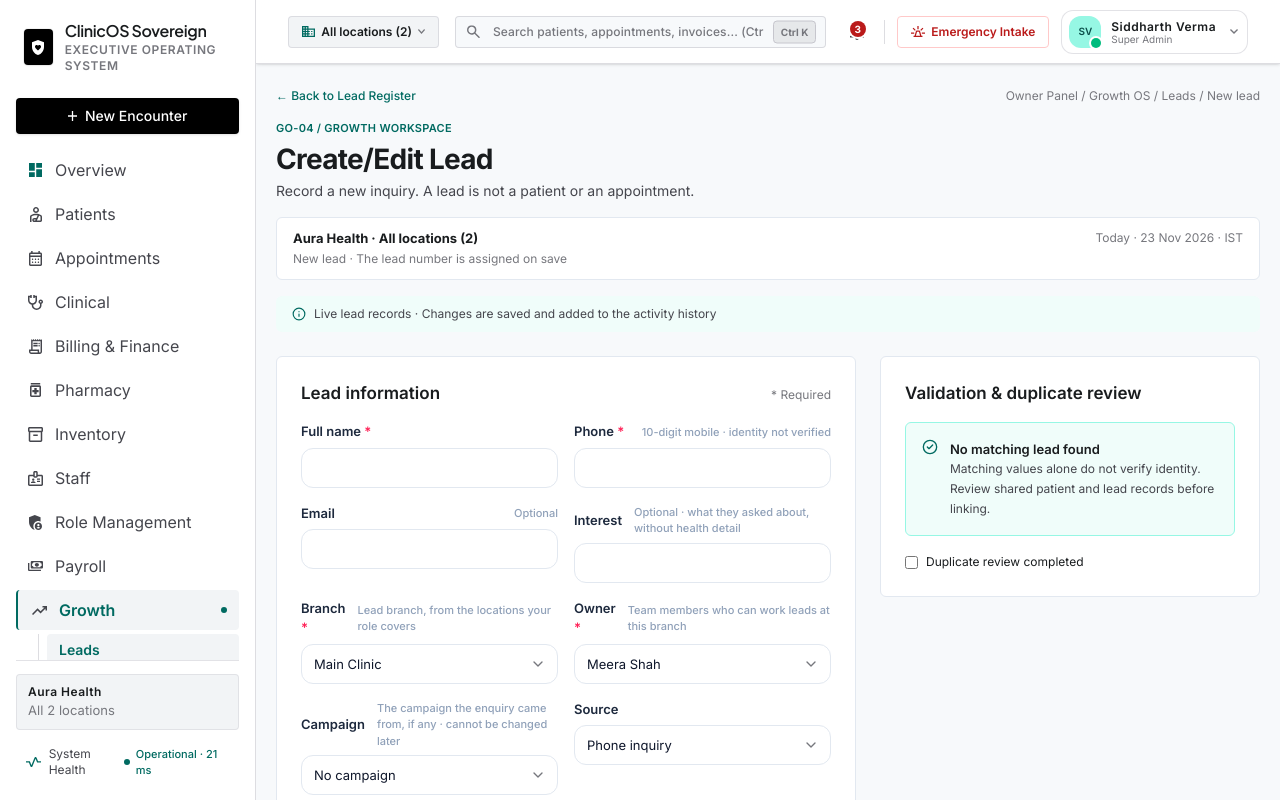
leads › blocks saving a lead with a duplicate mobile until the review is confirmed
Clear the field labelled "Full name *" at (430, 468), box top-left (301, 448), bottom-right (558, 488)
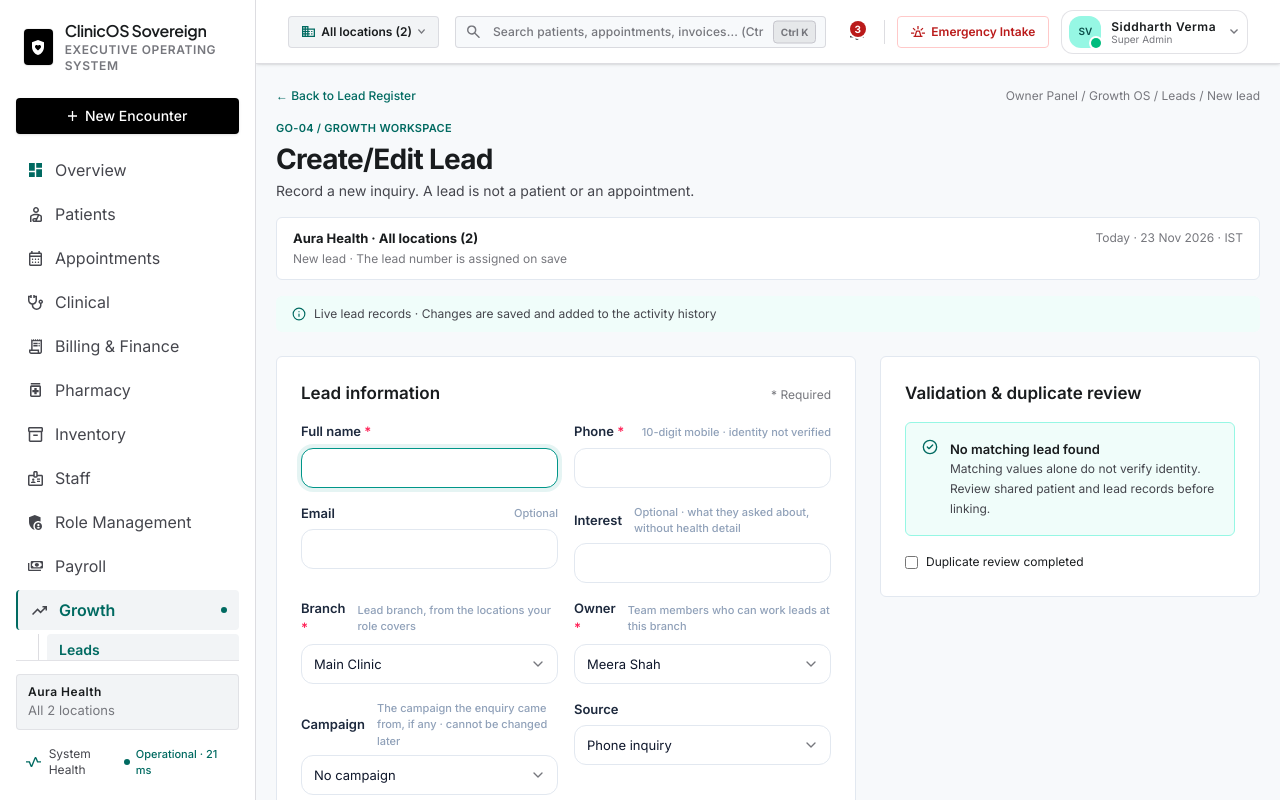
Type keys "Another Nisha"
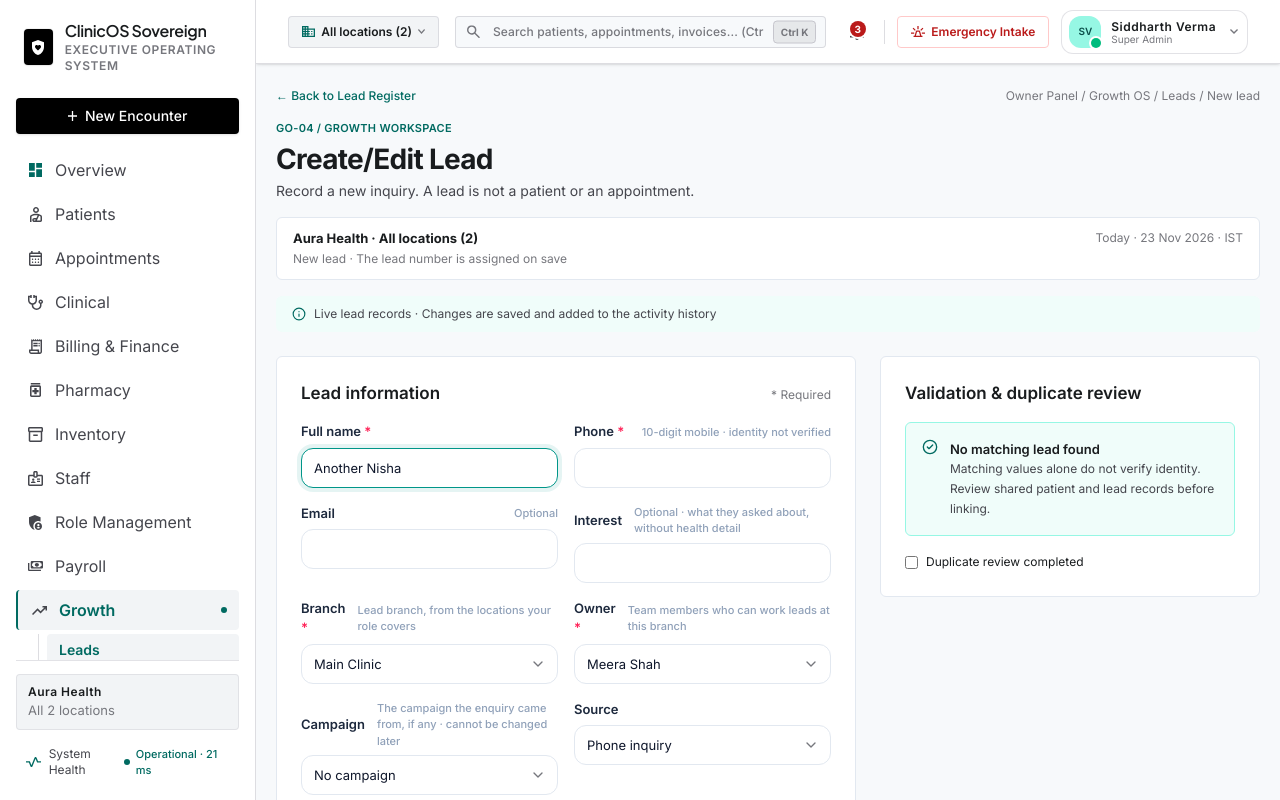
Clear the field labelled "Phone *" at (702, 468), box top-left (574, 448), bottom-right (831, 488)
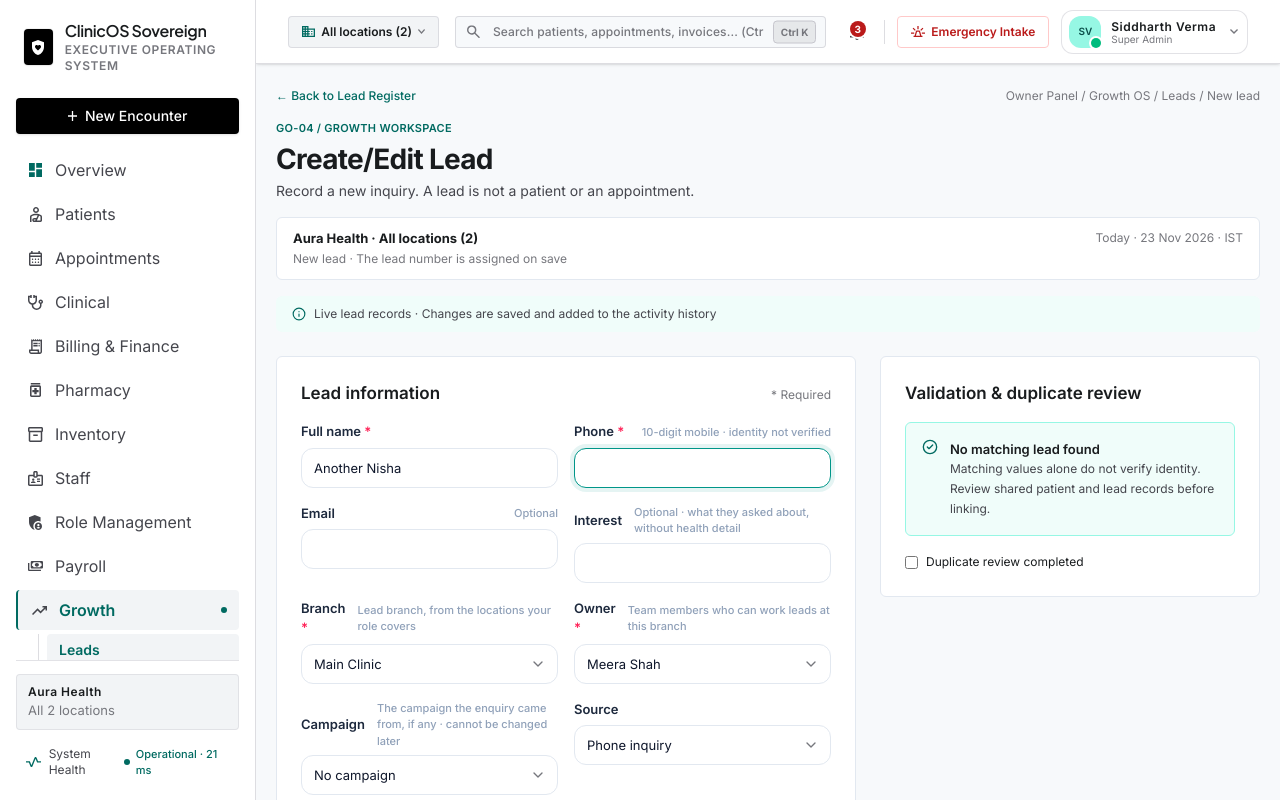
Type keys "98480 22110"
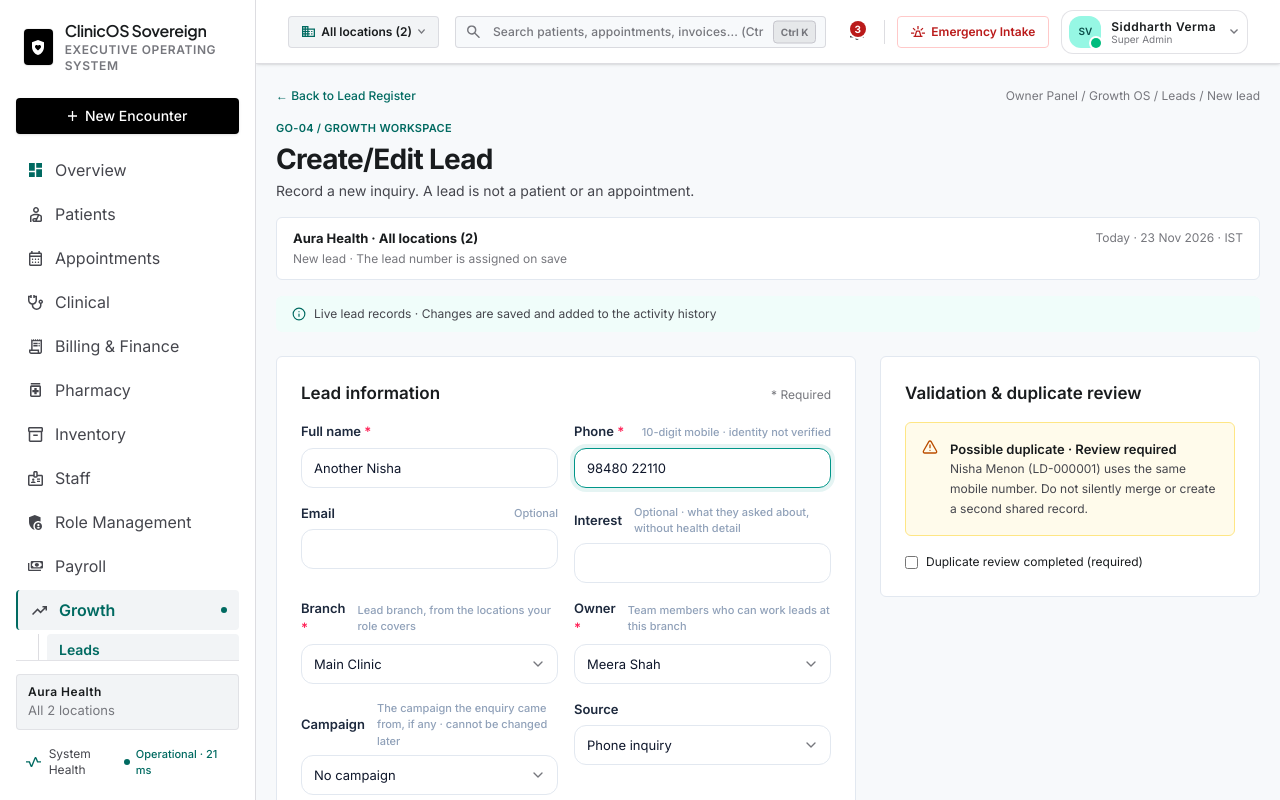
Check: the text "Possible duplicate · Review required" is shown, box top-left (950, 441), bottom-right (1177, 457)
Check: the text "Nisha Menon (LD-000001) uses the same mobile number" is shown, box top-left (950, 439), bottom-right (1218, 519)
Click the checkbox labelled "Duplicate review completed (required)" at (912, 563), box top-left (905, 556), bottom-right (918, 569)
(page scrolled)
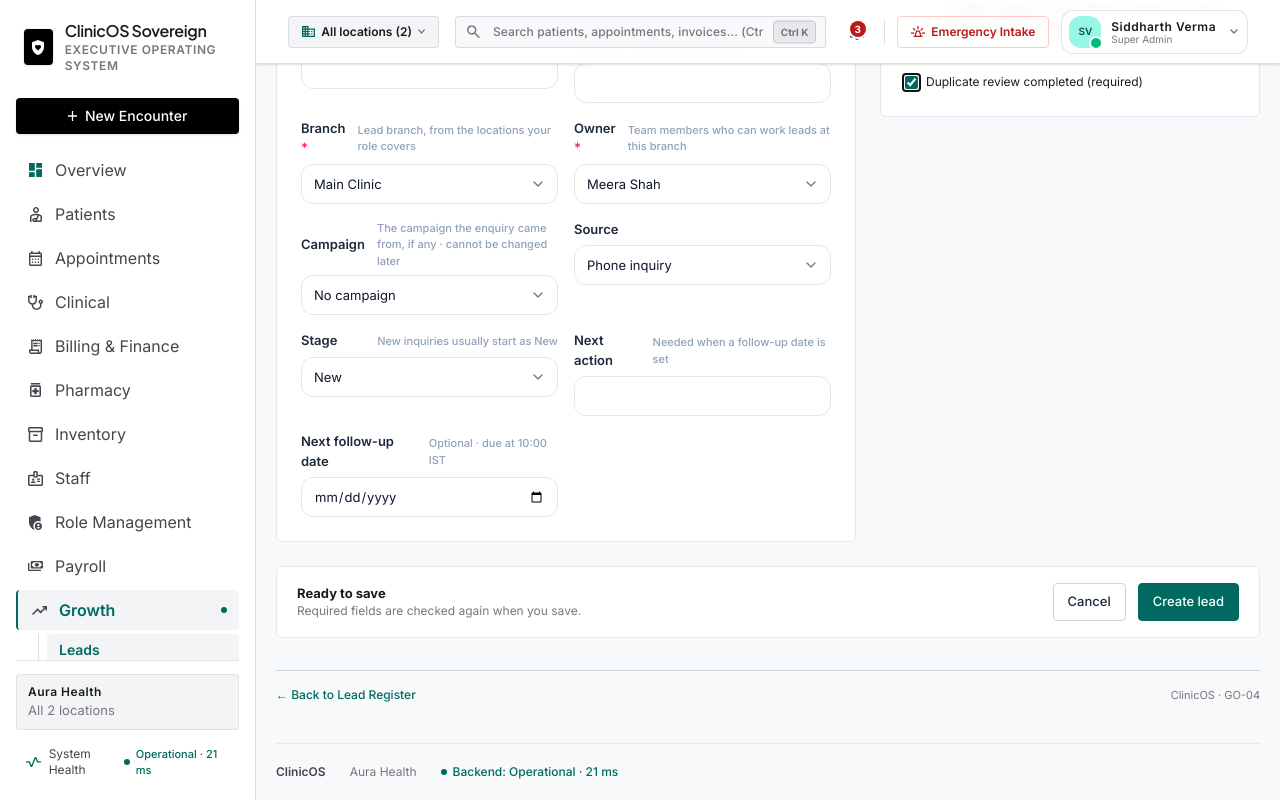
Check: the button "Create lead" is enabled, box top-left (1138, 583), bottom-right (1239, 621)
